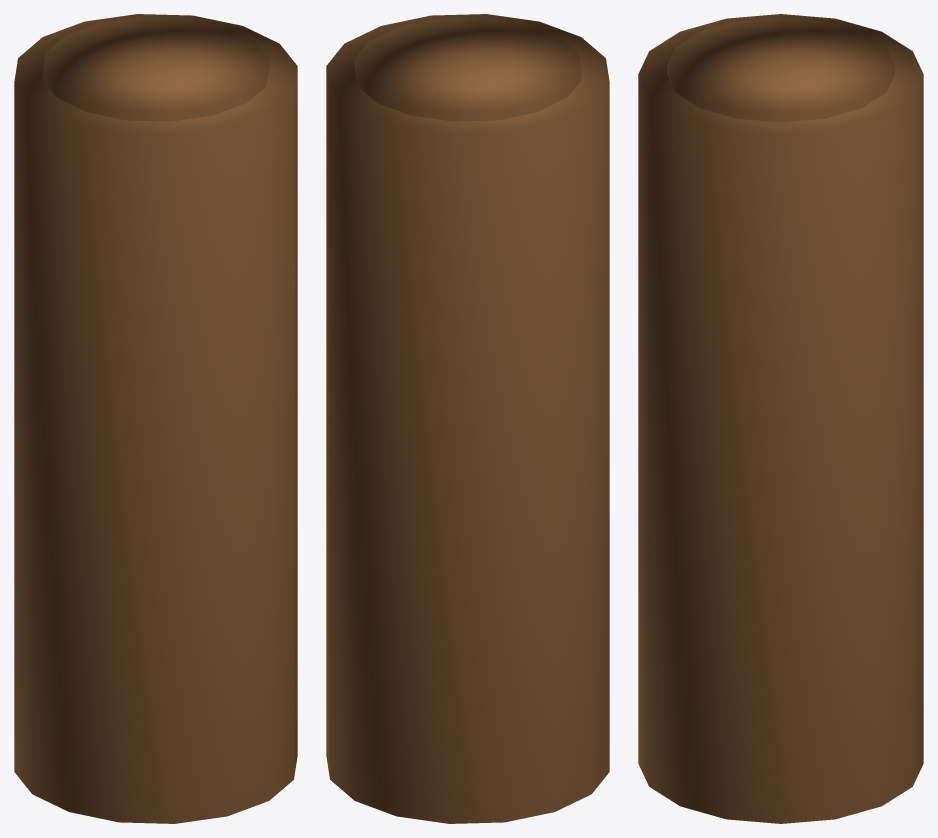
File: wood.obj
3 views of the same model, side by side, from view 1: azimuth 30°, elevation 25°; view 2: azimuth 150°, elevation 25°; view 3: azimuth 270°, elevation 25° (orthographic).
Bounding box in the file's own units: 2.4 × 6.56 × 2.4.
